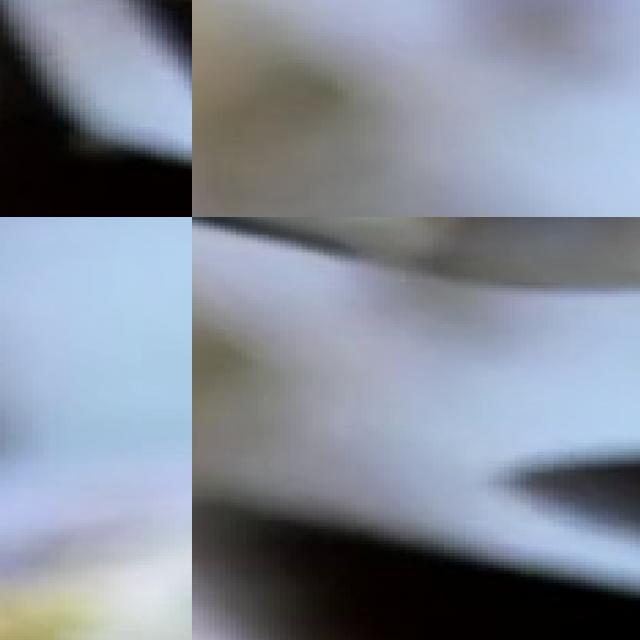fish: (192, 422, 640, 640), (0, 0, 192, 217)
